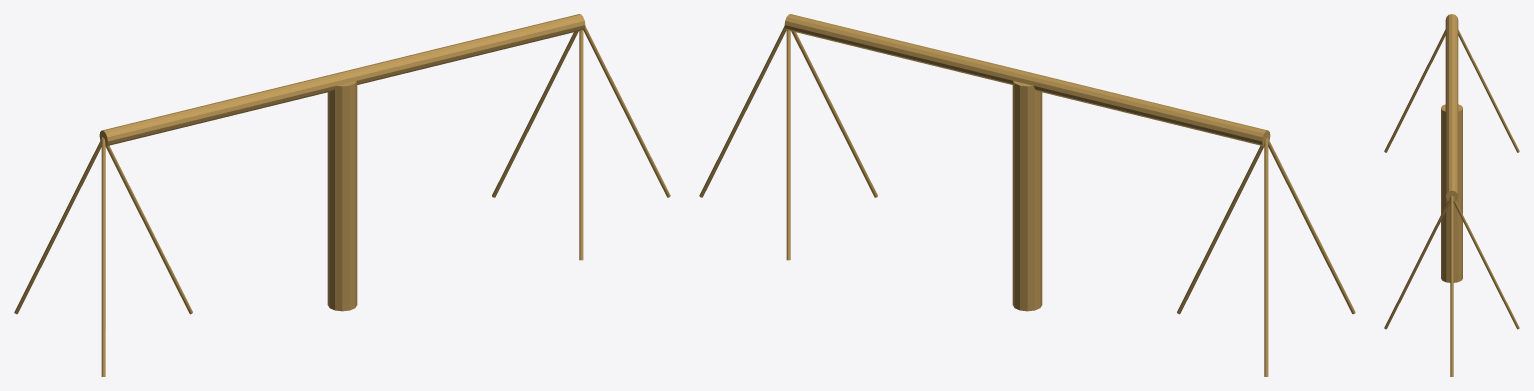
The model's file is twin_scale.fbx.
3 renders of one model, left to right at view 1: azimuth 30°, elevation 25°; view 2: azimuth 150°, elevation 25°; view 3: azimuth 270°, elevation 25°, orthographic. The views are drawn at different scales.
Visible parts, largest first — view 1: twin_scale_Aged brass; view 2: twin_scale_Aged brass; view 3: twin_scale_Aged brass.
Part boxes in pixels (x1,y1,x2,y2): twin_scale_Aged brass: (14, 14, 670, 376); twin_scale_Aged brass: (699, 14, 1355, 376); twin_scale_Aged brass: (1384, 14, 1519, 376).
Size of the model in its own units: 769 by 279 by 195.
